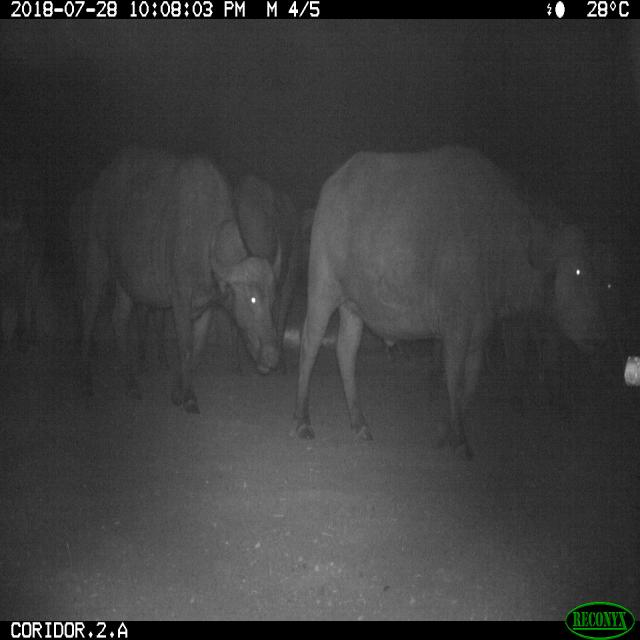buffalo: (75, 138, 606, 465)
